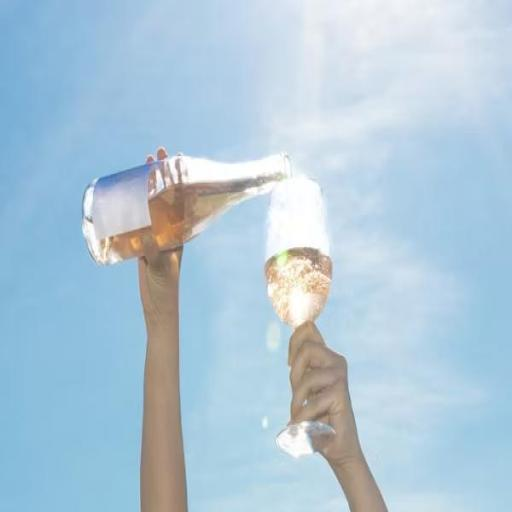bottle: (78, 143, 295, 272)
